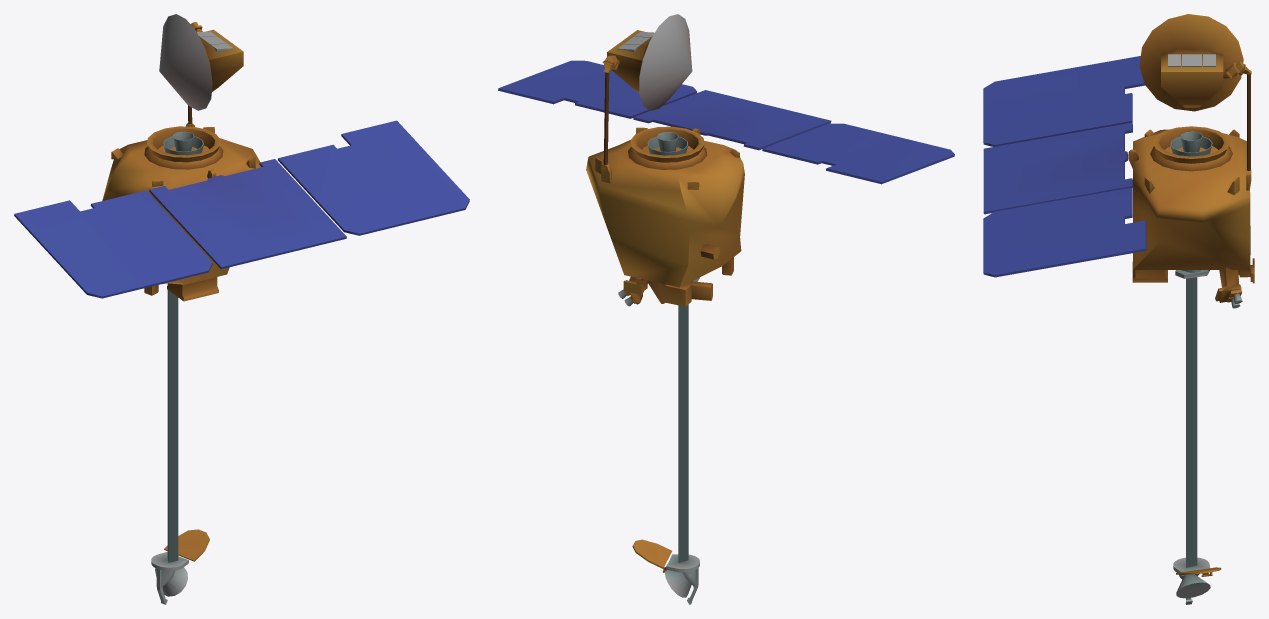
File: space-satellites-satellite_v12.glb
3 views of the same model, side by side, from view 1: azimuth 30°, elevation 25°; view 2: azimuth 150°, elevation 25°; view 3: azimuth 270°, elevation 25° (orthographic). The views are drawn at different scales.
Parts seen in each view (by area): view 1: Satellite_v12, Satellite_v12.001; view 2: Satellite_v12.001, Satellite_v12; view 3: Satellite_v12.001, Satellite_v12.
Part boxes in pixels (box(x1,y1,x2,y2)): Satellite_v12: box(14, 120, 469, 298); Satellite_v12.001: box(102, 14, 261, 604); Satellite_v12.001: box(586, 14, 744, 604); Satellite_v12: box(498, 60, 954, 184); Satellite_v12.001: box(1128, 14, 1254, 604); Satellite_v12: box(983, 56, 1146, 277).
Size of the model in its own units: 5.52 by 8 by 3.27.
